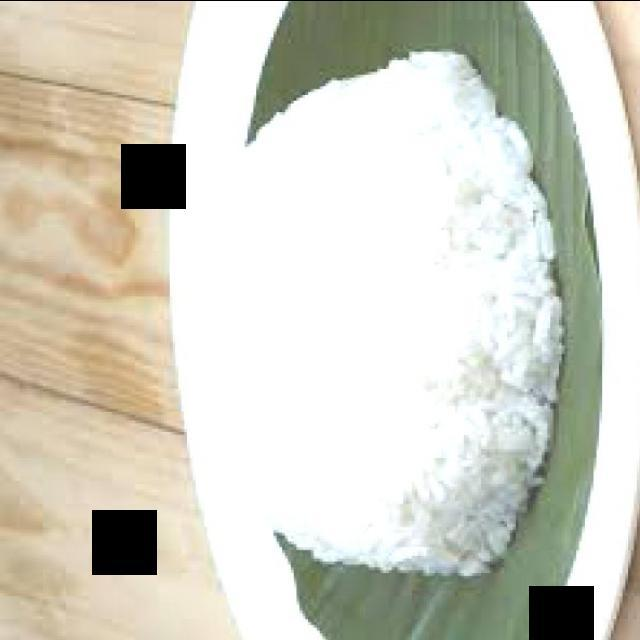rice: (203, 50, 569, 579)
